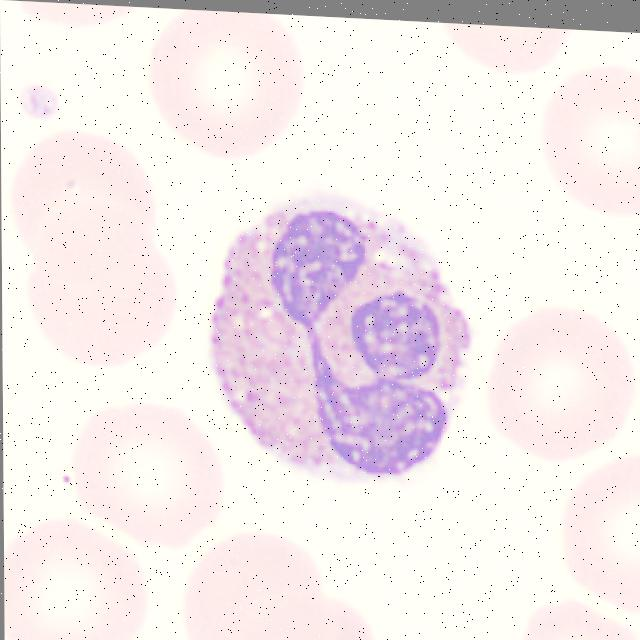eosinophil: (209, 177, 471, 499)
rbc: (21, 194, 189, 373), (64, 390, 227, 551), (148, 8, 304, 169), (10, 126, 163, 272), (496, 309, 623, 465), (4, 510, 153, 640), (531, 55, 640, 224), (180, 525, 336, 640), (555, 450, 640, 621), (429, 22, 583, 89), (503, 583, 640, 640), (0, 0, 148, 52), (302, 581, 394, 640)
